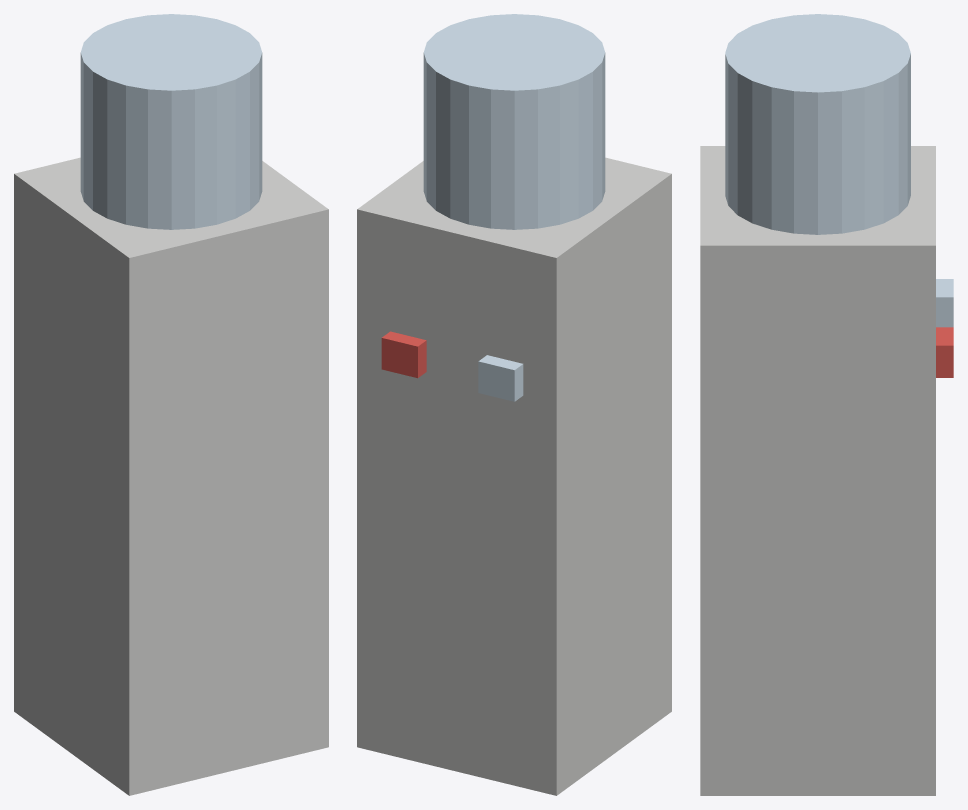
The model's file is water_dispenser-PRIM-001.glb.
The picture shows the model from 3 angles, left to right: view 1: azimuth 30°, elevation 25°; view 2: azimuth 150°, elevation 25°; view 3: azimuth 270°, elevation 25°; orthographic projection. The views are drawn at different scales.
Visible parts, largest first — view 1: p0, p1; view 2: p0, p1, p2, p3; view 3: p0, p1, p3, p2.
Boxes of the visible parts, x1,y1,x2,y2 form: p0: [14, 157, 328, 795]; p1: [80, 14, 262, 229]; p0: [357, 157, 671, 795]; p1: [423, 14, 605, 229]; p2: [478, 355, 523, 401]; p3: [381, 331, 426, 378]; p0: [700, 146, 935, 795]; p1: [725, 14, 910, 234]; p3: [936, 327, 953, 377]; p2: [936, 279, 953, 327].
Size of the model in its own units: 0.33 by 1.07 by 0.355.
